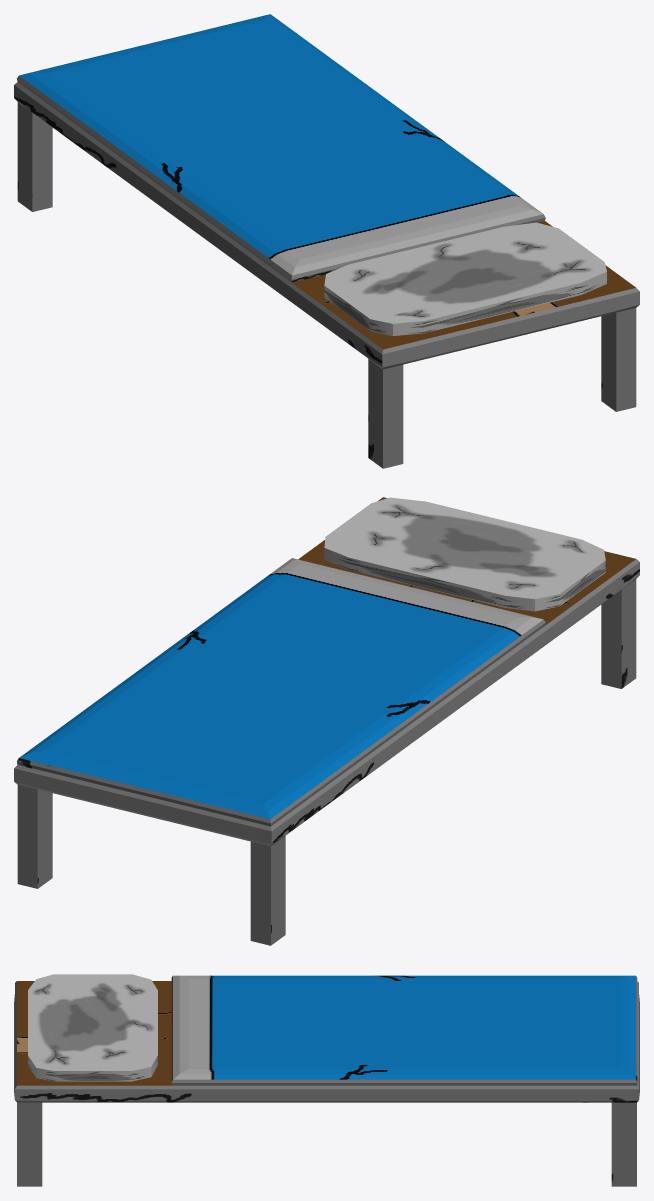
File: BED.FBX
3 renders of one model, top to bottom at view 1: azimuth 30°, elevation 25°; view 2: azimuth 150°, elevation 25°; view 3: azimuth 270°, elevation 25°, orthographic. The views are drawn at different scales.
Visible parts, largest first — view 1: Box001, Box002; view 2: Box001, Box002; view 3: Box001, Box002.
Boxes of the visible parts, <box> form: Box001: <box>14,14,639,468</box>; Box002: <box>324,222,606,335</box>; Box001: <box>14,497,639,945</box>; Box002: <box>324,497,605,611</box>; Box001: <box>14,975,639,1186</box>; Box002: <box>28,974,157,1081</box>.
Bounding box in the file's own units: 41 × 19.85 × 101.
2 materials, 2 textured.
